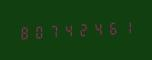eight: (17, 23, 31, 42)
four: (62, 20, 76, 39), (92, 19, 106, 38)
one: (122, 17, 136, 36)
seven: (47, 21, 61, 40)
six: (107, 18, 121, 37)
two: (77, 19, 91, 39)
zero: (32, 22, 46, 41)
